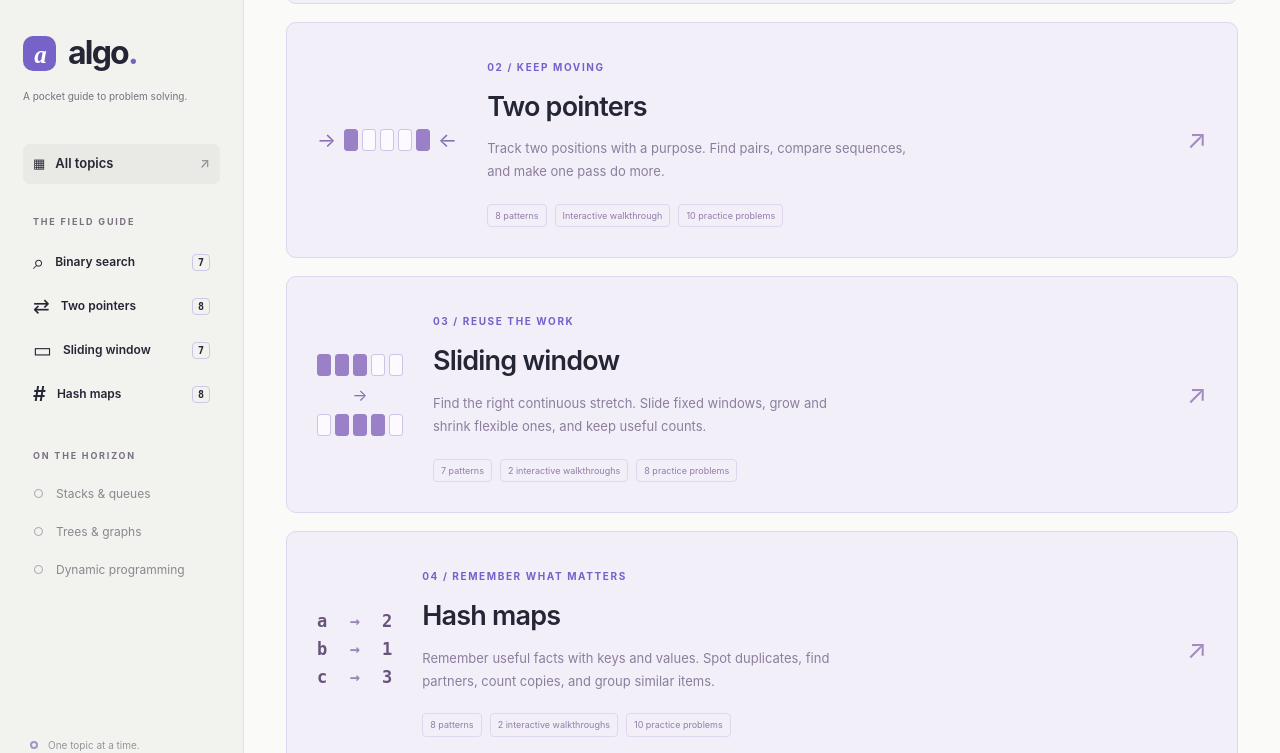
Scenario: sliding window lesson › opens from the topic list and links to the existing topics
(page scrolled)
Click the link "03 / Reuse the work": (762, 395) [286,276,1238,513]
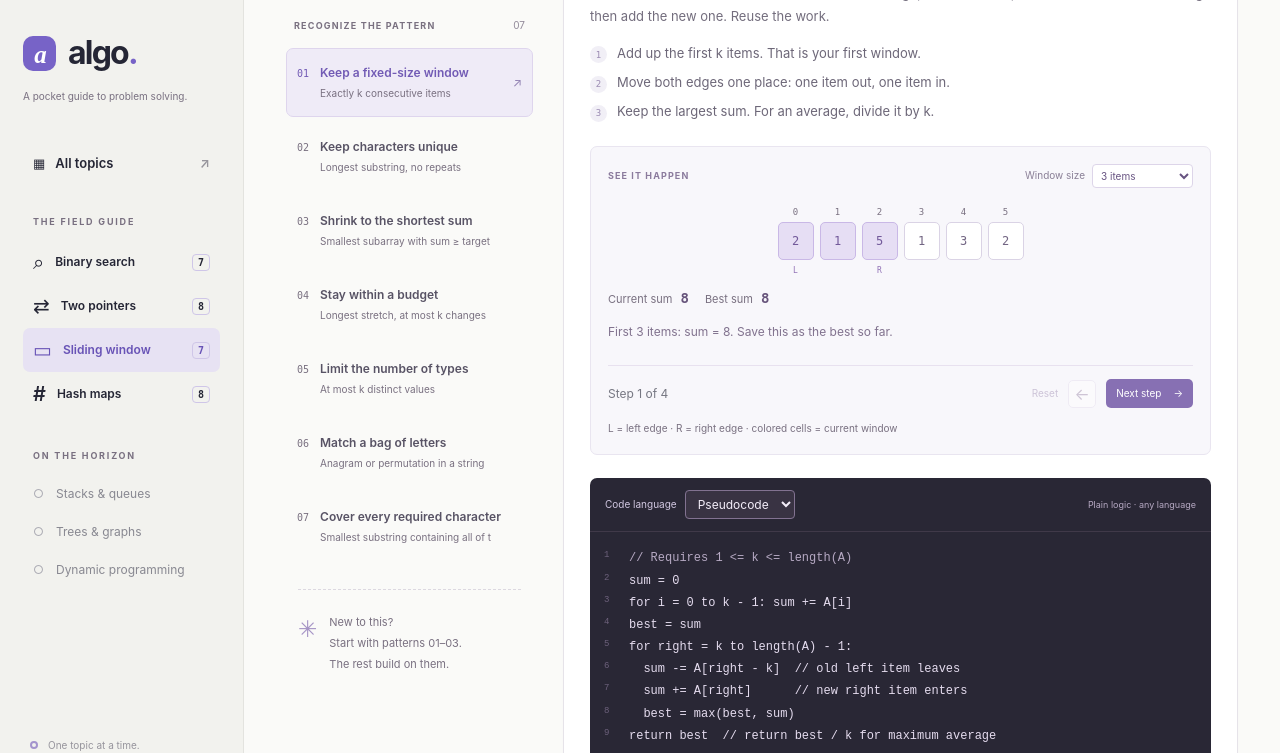
expect the link with aria-label "Sliding window, 7 patterns" is marked as current: met, box [23,328,220,372]
Click the link with aria-label "Two pointers, 8 patterns": (122, 306) [33,294,210,318]
(page scrolled)
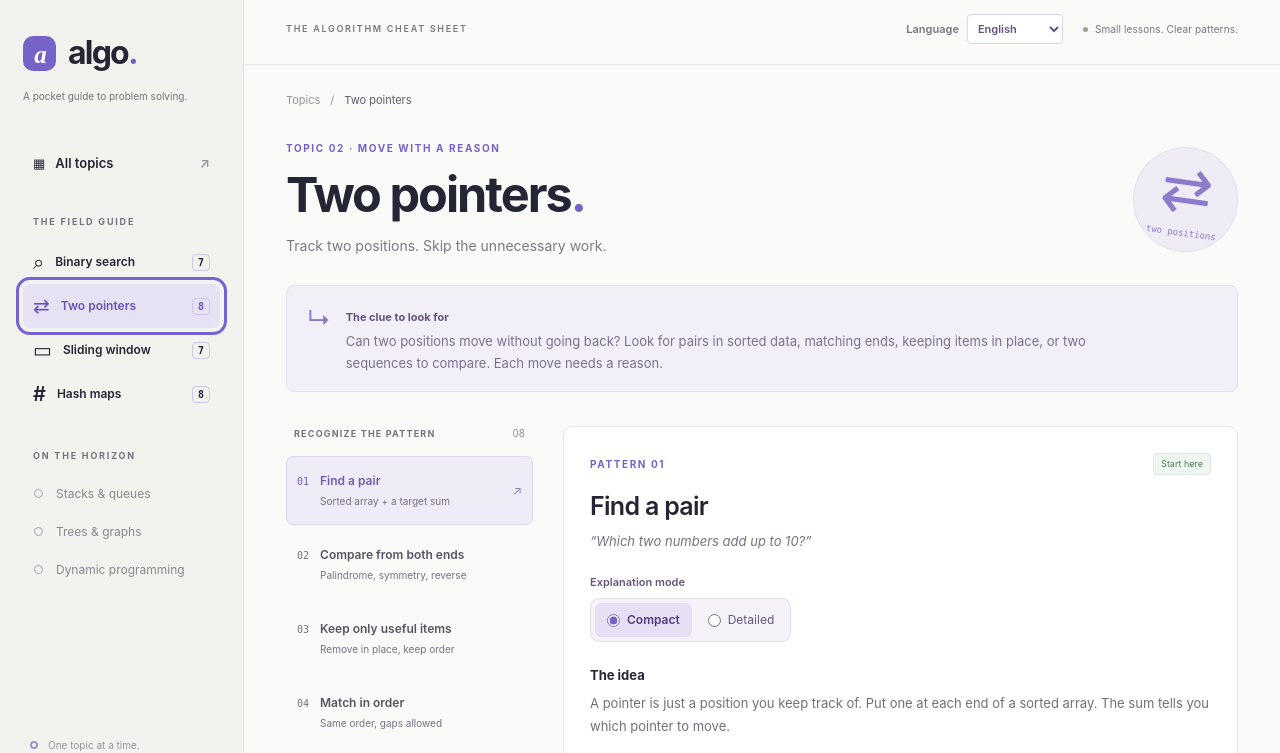
expect the heading "Two pointers." is shown: met, box [286,166,606,222]
